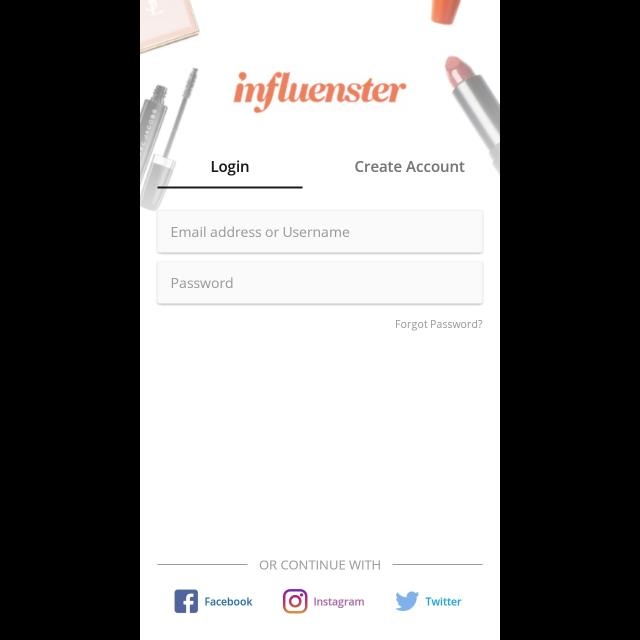icon: (174, 589, 198, 613), (396, 591, 420, 611)
image: (234, 72, 406, 114), (284, 588, 308, 614)
input: (157, 210, 483, 253), (157, 262, 483, 304)
text: (172, 226, 350, 238), (260, 560, 380, 570), (355, 162, 465, 172), (396, 321, 482, 332), (172, 278, 232, 288), (212, 160, 248, 176), (315, 598, 365, 608), (206, 598, 254, 606), (426, 598, 462, 606)
